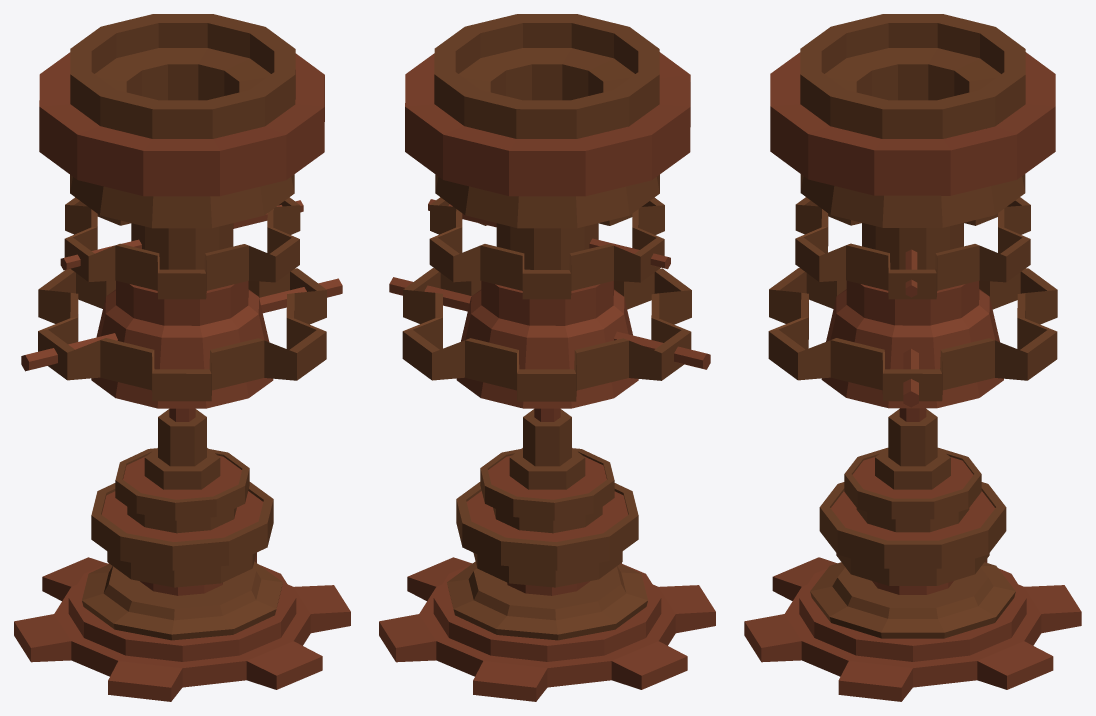
Rendered from Upwards_3_.glb.
3 views of the same model, side by side, from view 1: azimuth 30°, elevation 25°; view 2: azimuth 150°, elevation 25°; view 3: azimuth 270°, elevation 25° (orthographic).
Visible parts, largest first — view 1: Upwards_3_Gun, Upwards_3_Base, Upwards_3_Mid; view 2: Upwards_3_Gun, Upwards_3_Base, Upwards_3_Mid; view 3: Upwards_3_Gun, Upwards_3_Base, Upwards_3_Mid.
Boxes of the visible parts, x1=… form: Upwards_3_Gun: x1=21, y1=14, x2=342, y2=408; Upwards_3_Base: x1=14, y1=448, x2=350, y2=701; Upwards_3_Mid: x1=82, y1=408, x2=282, y2=640; Upwards_3_Gun: x1=389, y1=14, x2=710, y2=408; Upwards_3_Base: x1=379, y1=448, x2=715, y2=701; Upwards_3_Mid: x1=447, y1=408, x2=647, y2=640; Upwards_3_Gun: x1=768, y1=14, x2=1057, y2=408; Upwards_3_Base: x1=744, y1=447, x2=1081, y2=701; Upwards_3_Mid: x1=810, y1=408, x2=1015, y2=638.
Bounding box in the file's own units: 1.48 × 2.58 × 1.38.
